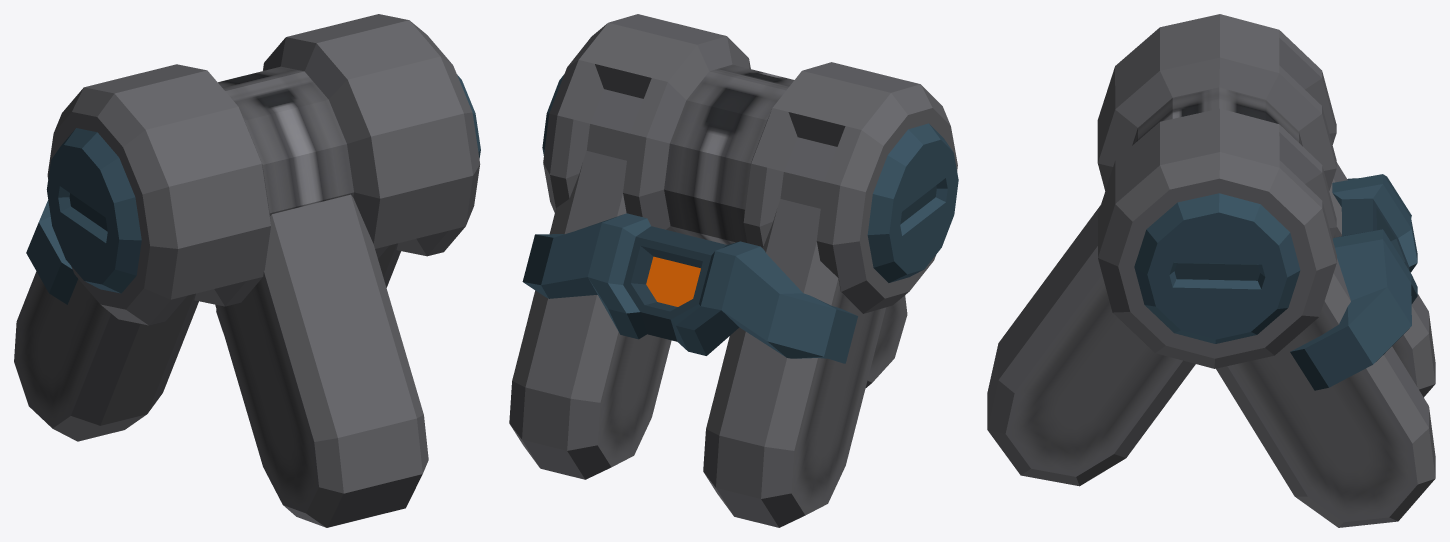
The model's file is SM_Mech_Ankle_01_Frame_01.fbx.
The picture shows the model from 3 angles, left to right: view 1: azimuth 30°, elevation 25°; view 2: azimuth 150°, elevation 25°; view 3: azimuth 270°, elevation 25°; orthographic projection. The views are drawn at different scales.
Visible parts, largest first — view 1: SM_Mech_Ankle_01_Frame_01; view 2: SM_Mech_Ankle_01_Frame_01; view 3: SM_Mech_Ankle_01_Frame_01.
Part boxes in pixels (x1=…): SM_Mech_Ankle_01_Frame_01: x1=14, y1=14, x2=480, y2=527; SM_Mech_Ankle_01_Frame_01: x1=509, y1=14, x2=958, y2=527; SM_Mech_Ankle_01_Frame_01: x1=987, y1=14, x2=1435, y2=527.
Size of the model in its own units: 41.68 by 44 by 46.17.
